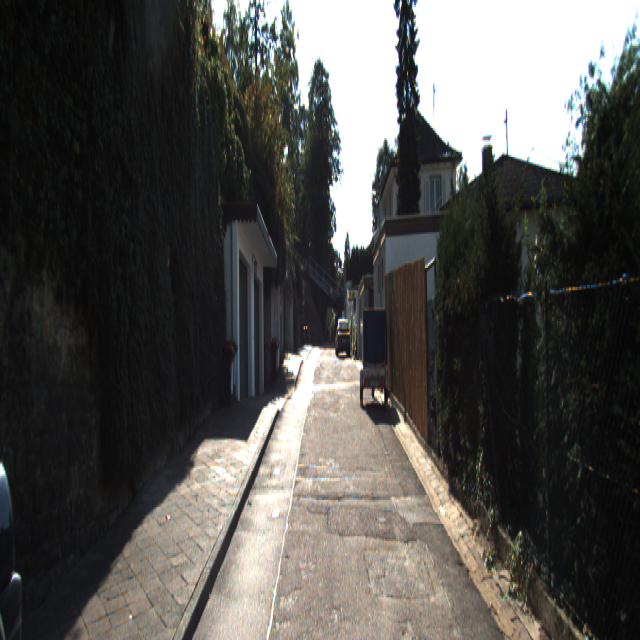Car: (360, 306, 391, 412), (335, 316, 350, 358)
